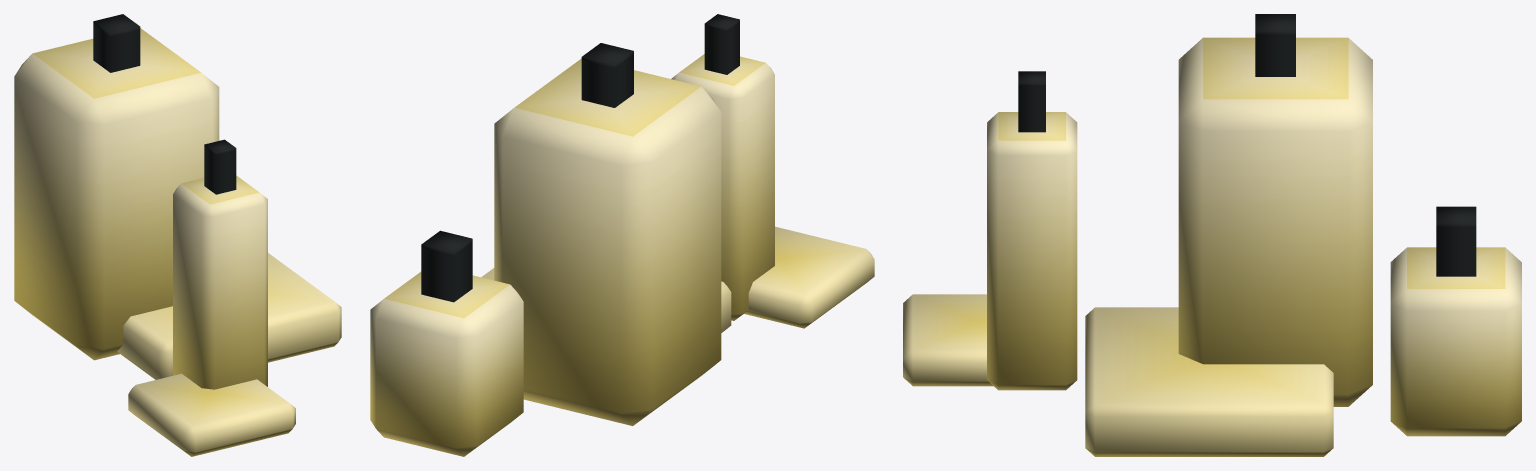
The model's file is candle_arrangement_5.fbx.
3 views of the same model, side by side, from view 1: azimuth 30°, elevation 25°; view 2: azimuth 150°, elevation 25°; view 3: azimuth 270°, elevation 25° (orthographic). The views are drawn at different scales.
Parts seen in each view (by area): view 1: candle_arrangement_5; view 2: candle_arrangement_5; view 3: candle_arrangement_5.
Boxes of the visible parts, <box> form: candle_arrangement_5: <box>14,14,341,456</box>; candle_arrangement_5: <box>370,14,874,456</box>; candle_arrangement_5: <box>903,14,1521,456</box>.
Size of the model in its own units: 65.43 by 80.1 by 127.
